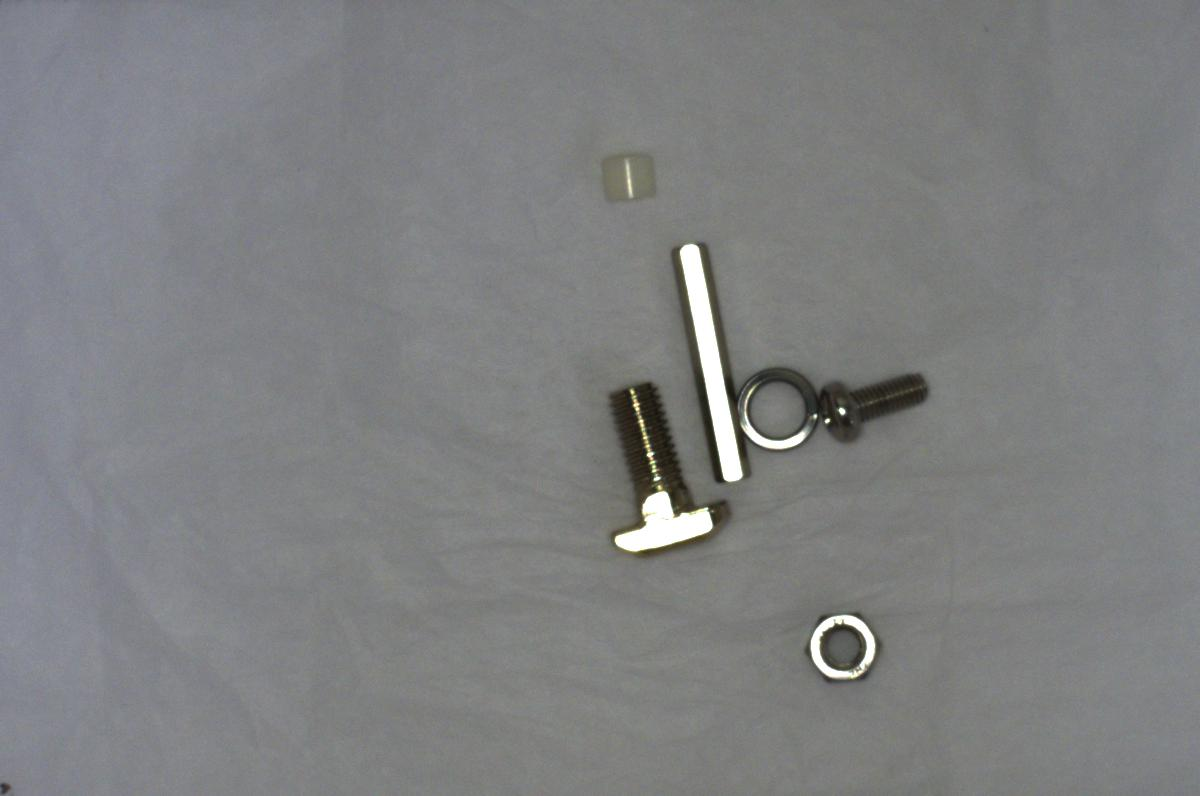Double hexagonal column: (665, 231, 751, 489)
Hexagon nut: (791, 601, 892, 689)
Plastic cushion pillar: (585, 133, 671, 217)
Round head screw: (817, 360, 935, 450)
Spring washer: (730, 354, 825, 459)
T-shaped screw: (589, 369, 734, 562)
